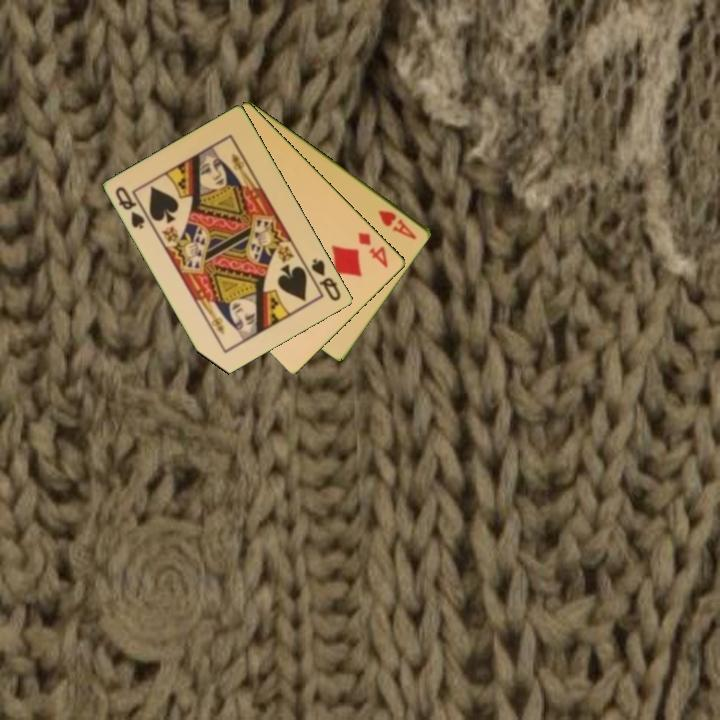4d: (355, 228, 391, 271)
Ah: (375, 206, 420, 242)
Qs: (112, 183, 153, 232), (308, 255, 344, 304)
